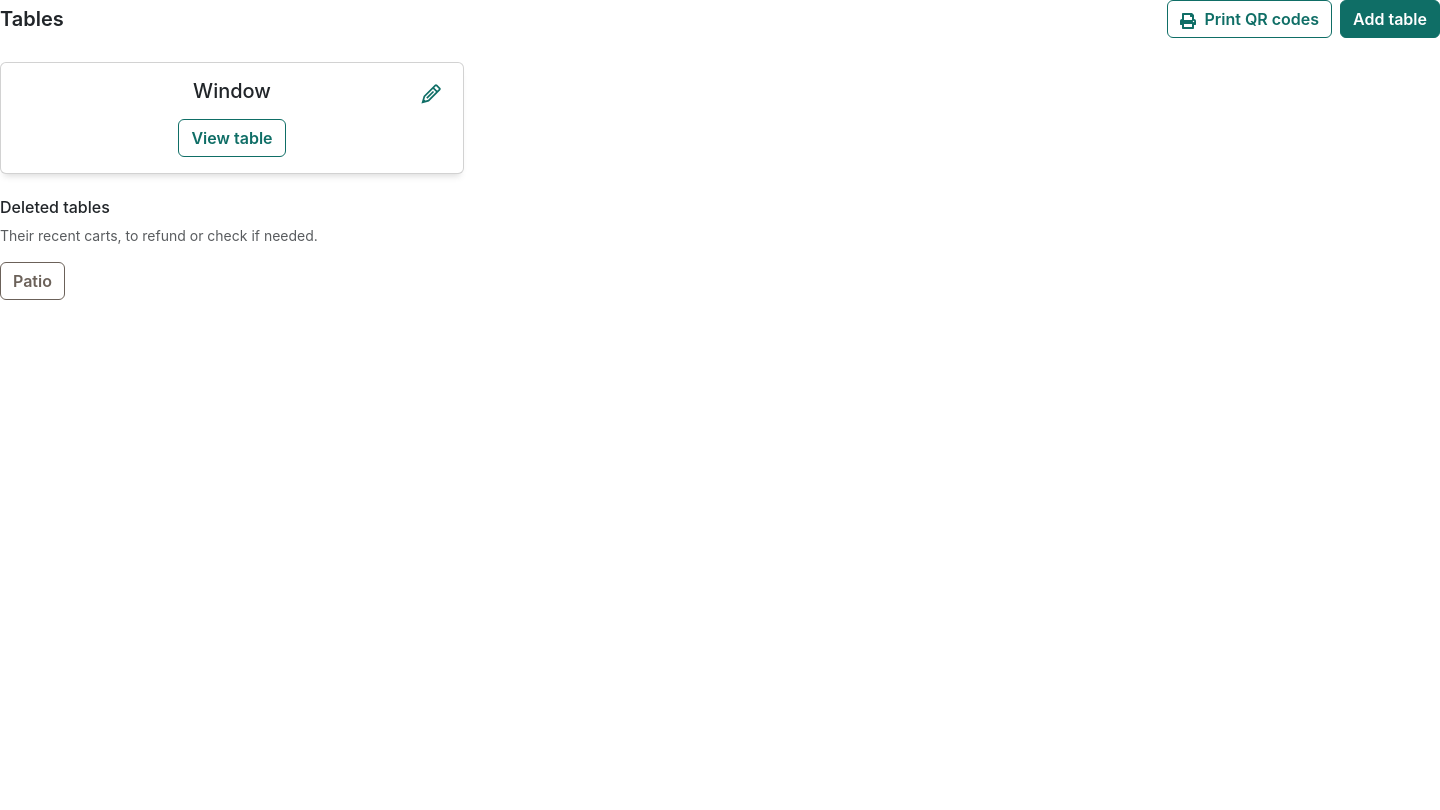
Scenario: deleted tables on the manager's page › lists those deleted in the last 24 hours, whose carts can still be opened
Click the button with aria-label "View deleted table Patio" at [32, 281], box top-left (0, 262), bottom-right (65, 300)
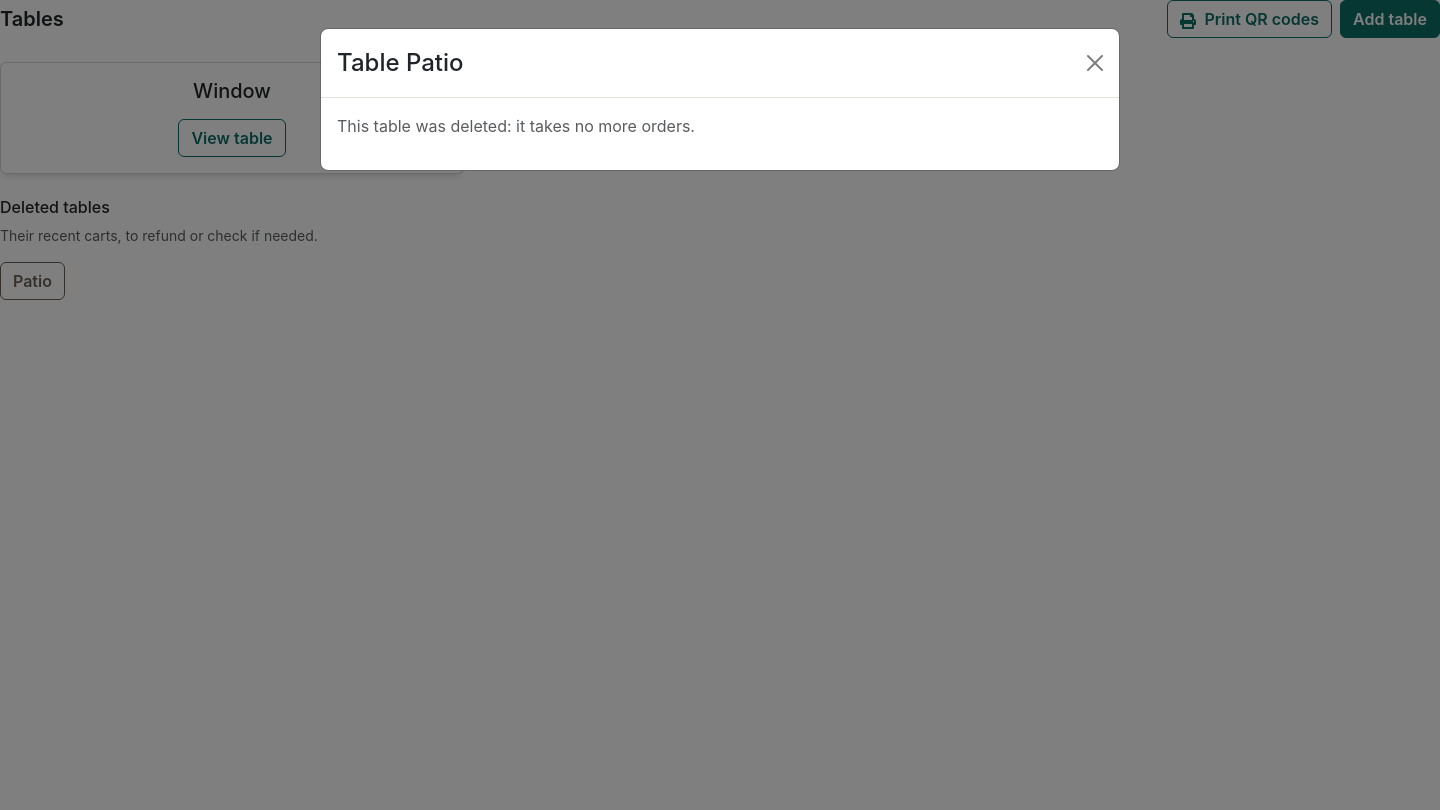
expect the text "Table Patio" is shown: met, box top-left (337, 45), bottom-right (464, 81)
expect the text "This table was deleted: it takes no more orders." is shown: met, box top-left (337, 116), bottom-right (695, 136)
